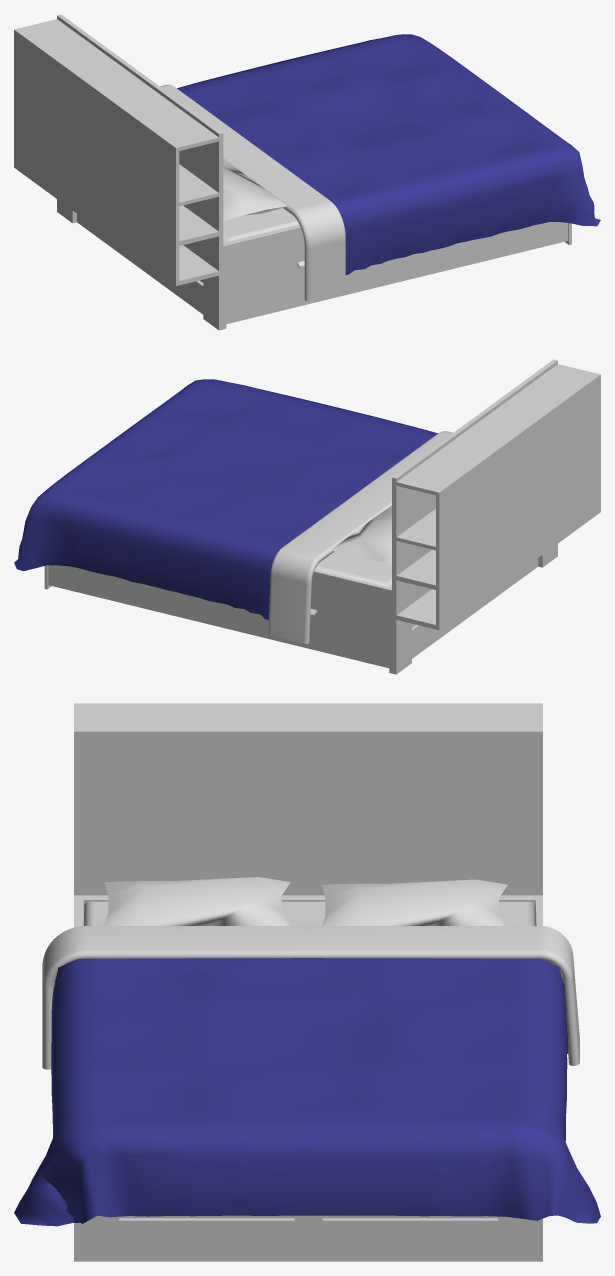
3 views of the same model, one above another, from view 1: azimuth 30°, elevation 25°; view 2: azimuth 150°, elevation 25°; view 3: azimuth 270°, elevation 25° (orthographic). The views are drawn at different scales.
Visible parts, largest first — view 1: Mesh2 Group4 Bed1 blanket1 Group3 Group1 Model, Mesh1 Group2 Group1 Model, Mesh6 Group1 Model, Mesh3 Group3 Group1 Model, Mesh5 Pillow2 Group1 Model; view 2: Mesh2 Group4 Bed1 blanket1 Group3 Group1 Model, Mesh1 Group2 Group1 Model, Mesh6 Group1 Model, Mesh3 Group3 Group1 Model, Mesh4 Pillow1 Group1 Model; view 3: Mesh2 Group4 Bed1 blanket1 Group3 Group1 Model, Mesh1 Group2 Group1 Model, Mesh6 Group1 Model, Mesh3 Group3 Group1 Model, Mesh5 Pillow2 Group1 Model, Mesh4 Pillow1 Group1 Model.
Boxes of the visible parts, <box> form: Mesh2 Group4 Bed1 blanket1 Group3 Group1 Model: <box>177,34,600,274</box>; Mesh1 Group2 Group1 Model: <box>14,14,223,330</box>; Mesh6 Group1 Model: <box>77,208,571,329</box>; Mesh3 Group3 Group1 Model: <box>160,84,345,301</box>; Mesh5 Pillow2 Group1 Model: <box>223,159,286,221</box>; Mesh2 Group4 Bed1 blanket1 Group3 Group1 Model: <box>14,379,437,619</box>; Mesh1 Group2 Group1 Model: <box>392,359,600,674</box>; Mesh6 Group1 Model: <box>44,551,538,673</box>; Mesh3 Group3 Group1 Model: <box>268,431,452,643</box>; Mesh4 Pillow1 Group1 Model: <box>332,505,391,565</box>; Mesh2 Group4 Bed1 blanket1 Group3 Group1 Model: <box>14,958,600,1226</box>; Mesh1 Group2 Group1 Model: <box>74,703,542,895</box>; Mesh6 Group1 Model: <box>74,895,542,1261</box>; Mesh3 Group3 Group1 Model: <box>42,926,579,1069</box>; Mesh5 Pillow2 Group1 Model: <box>103,877,290,925</box>; Mesh4 Pillow1 Group1 Model: <box>321,879,507,925</box>.
Size of the model in its own units: 2.45 by 1.11 by 2.08.
